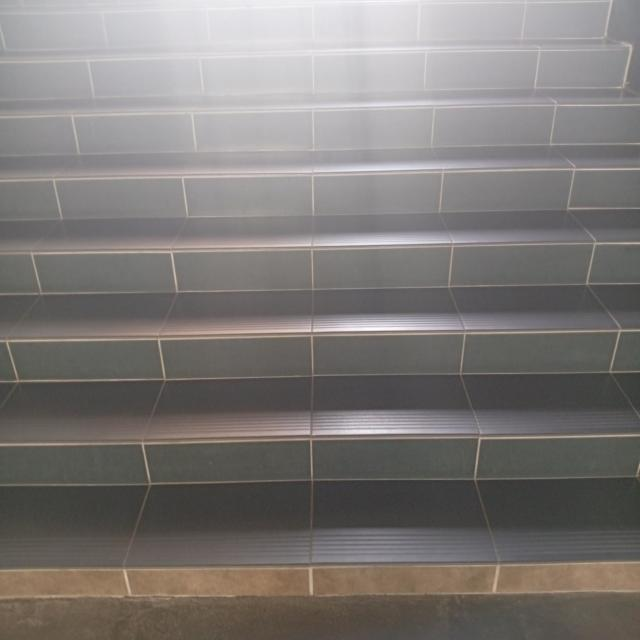Stairs: (118, 151, 626, 640)
